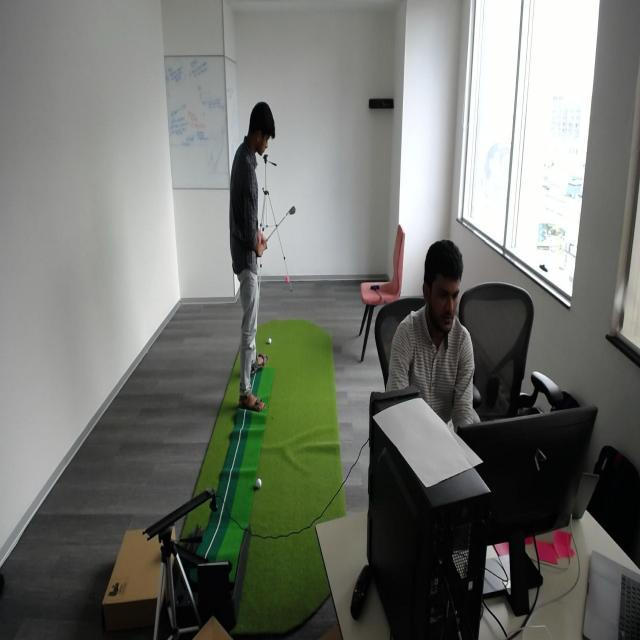ClubHead: (278, 203, 304, 222)
GolfBall: (250, 472, 266, 492), (262, 333, 274, 345)
